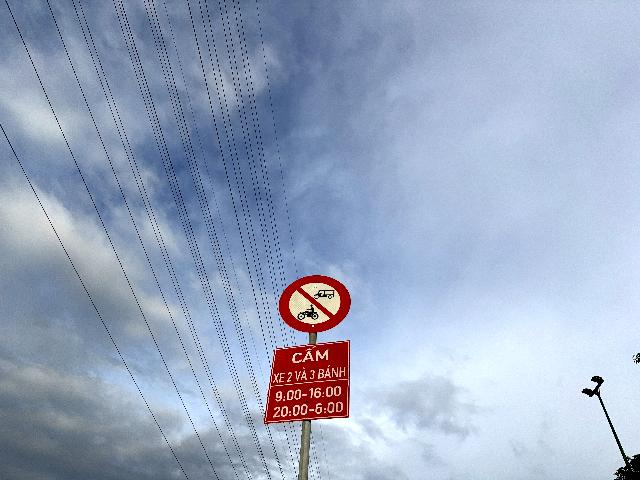cam-xe-2-banh-3-banh: (278, 274, 351, 333)
